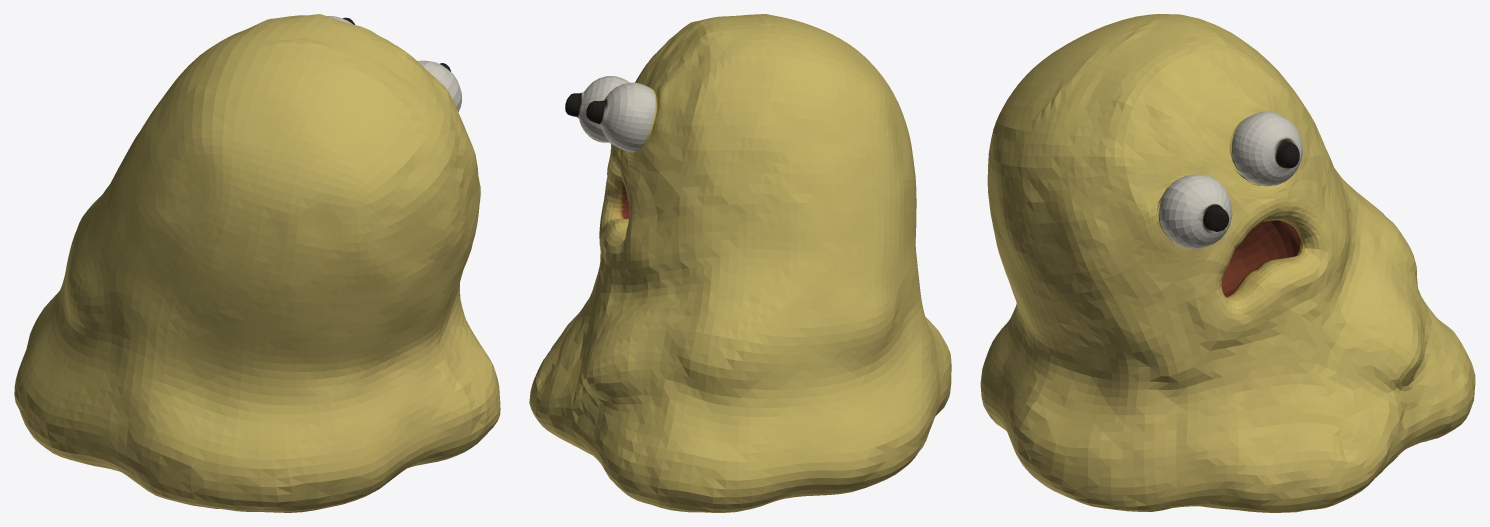
File: yuki.glb
3 renders of one model, left to right at view 1: azimuth 30°, elevation 25°; view 2: azimuth 150°, elevation 25°; view 3: azimuth 270°, elevation 25°, orthographic. The views are drawn at different scales.
Parts seen in each view (by area): view 1: tripo_node_a9274121-377b-4a1f-a3f3-e257b777b3f2; view 2: tripo_node_a9274121-377b-4a1f-a3f3-e257b777b3f2; view 3: tripo_node_a9274121-377b-4a1f-a3f3-e257b777b3f2.
Part boxes in pixels (<box>): tripo_node_a9274121-377b-4a1f-a3f3-e257b777b3f2: <box>14,14,500,512</box>; tripo_node_a9274121-377b-4a1f-a3f3-e257b777b3f2: <box>529,14,951,512</box>; tripo_node_a9274121-377b-4a1f-a3f3-e257b777b3f2: <box>980,14,1475,512</box>.
Size of the model in its own units: 0.9182 by 0.9078 by 0.9993.
1 material, 1 textured.
